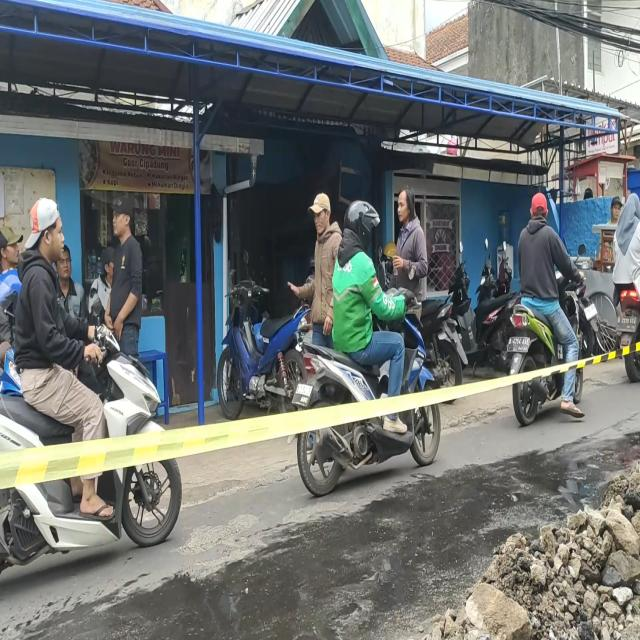helmet: (347, 204, 373, 242)
no-helmet: (26, 202, 65, 256), (530, 194, 546, 226), (626, 192, 640, 220)
